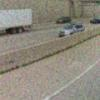cars: (57, 21, 86, 38)
